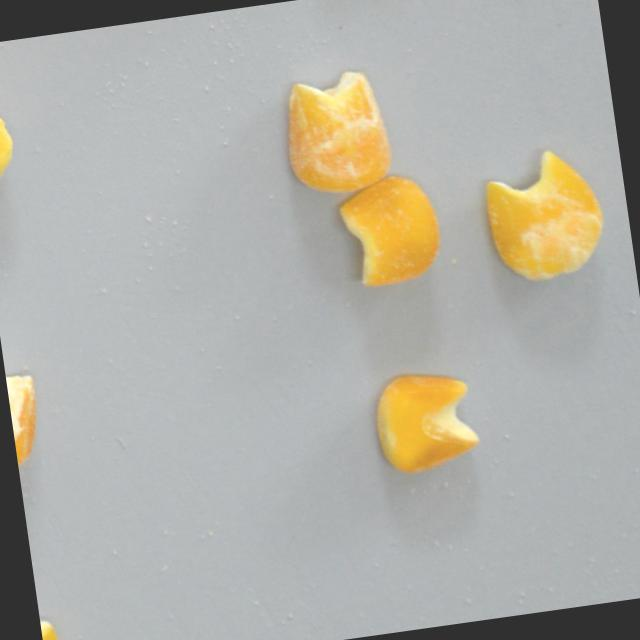no_canjicado: (369, 365, 485, 478), (38, 612, 62, 640)
pelicula: (475, 146, 609, 289), (280, 68, 394, 198), (332, 176, 445, 293), (3, 360, 47, 470), (0, 70, 18, 181)
